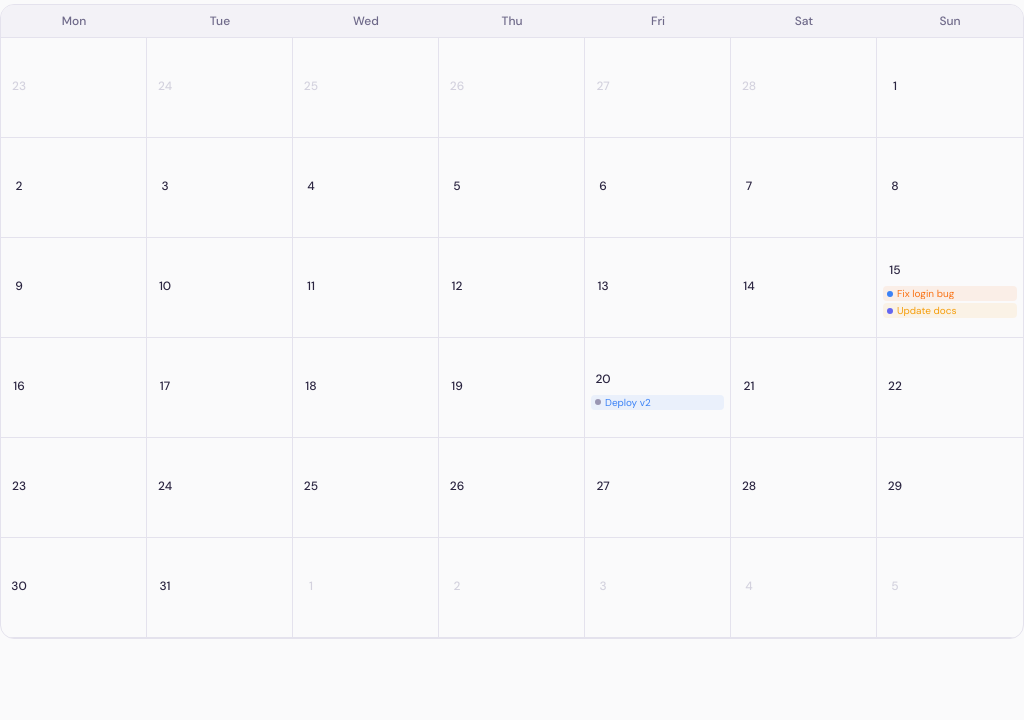
Test: TicketCalendar › shows detail panel when a date with tickets is clicked
Click the button with test id "calendar-day-2026-03-15". click: (950, 288)
box: [877,238,1023,338]
(page scrolled)
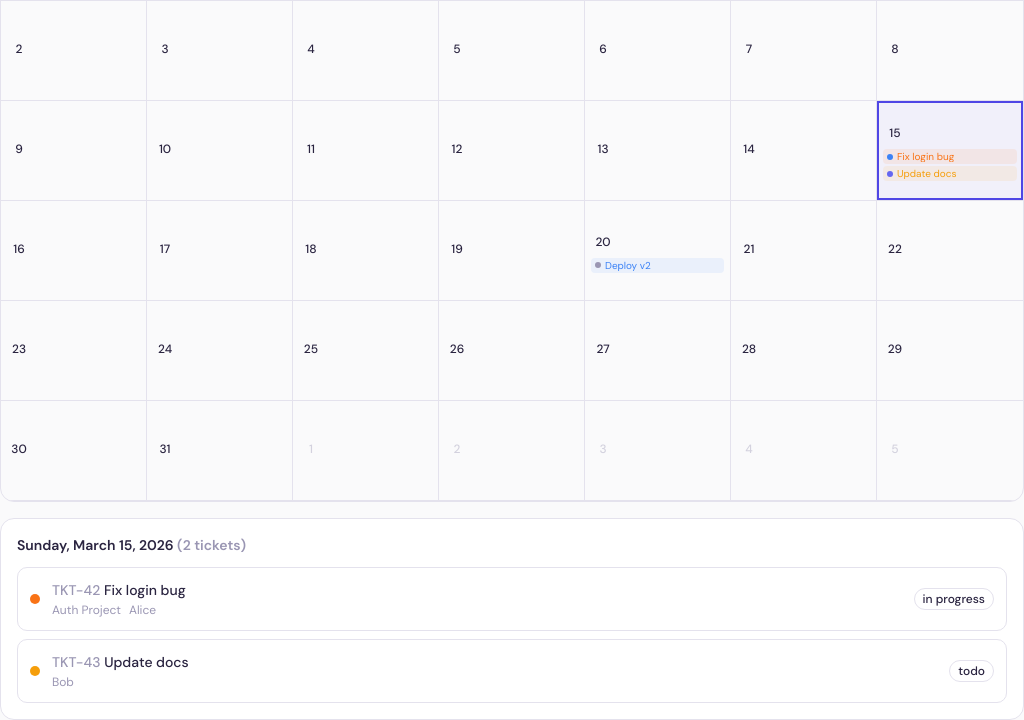
Expected: the element with test id "calendar-detail-panel" is shown, [0,518,1023,719]
Expected: the link with test id "calendar-ticket-t-1" is shown, [17,567,1007,631]
Expected: the link with test id "calendar-ticket-t-2" is shown, [17,639,1007,703]
